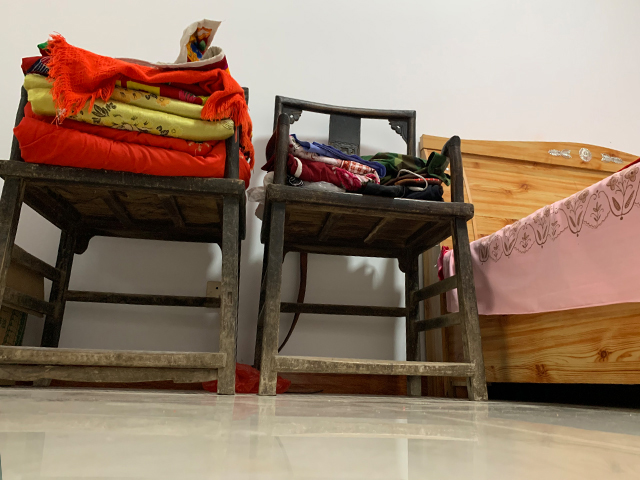bed: (414, 131, 640, 400)
stool: (1, 54, 248, 401), (262, 93, 490, 403)
